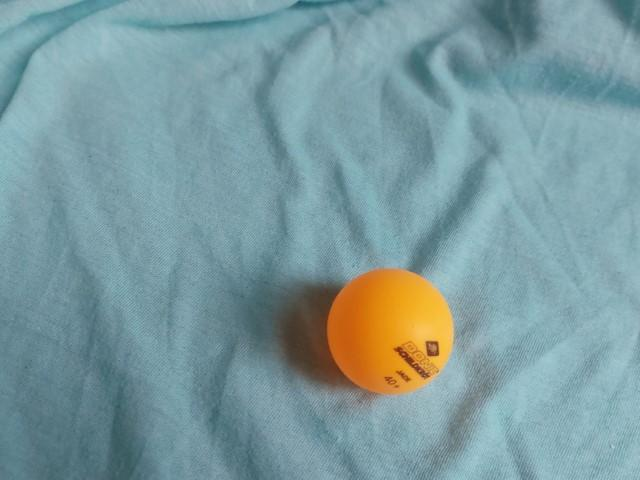oball: (318, 261, 467, 404)
